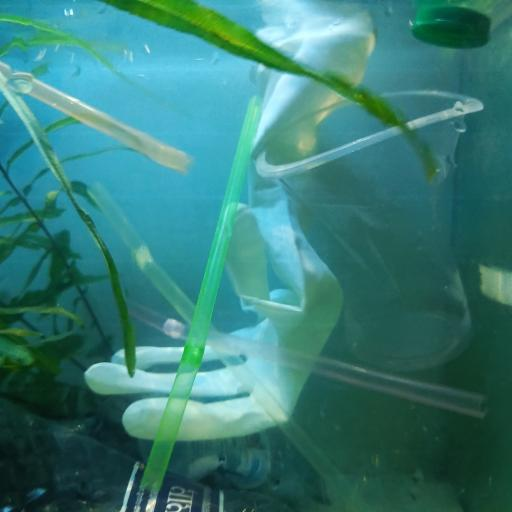bottle_cap: (412, 6, 491, 50)
glove: (85, 30, 376, 436)
plastic_bottle: (0, 398, 286, 512), (124, 425, 482, 512)
plastic_cup: (256, 84, 488, 375)
plastic_straw: (90, 178, 354, 499), (92, 284, 492, 418), (138, 60, 258, 493), (0, 62, 190, 174)
